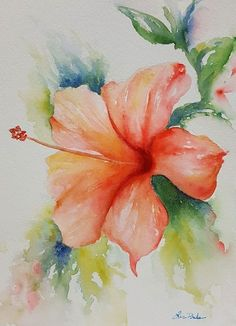Hibiscus: (1, 57, 224, 278)
